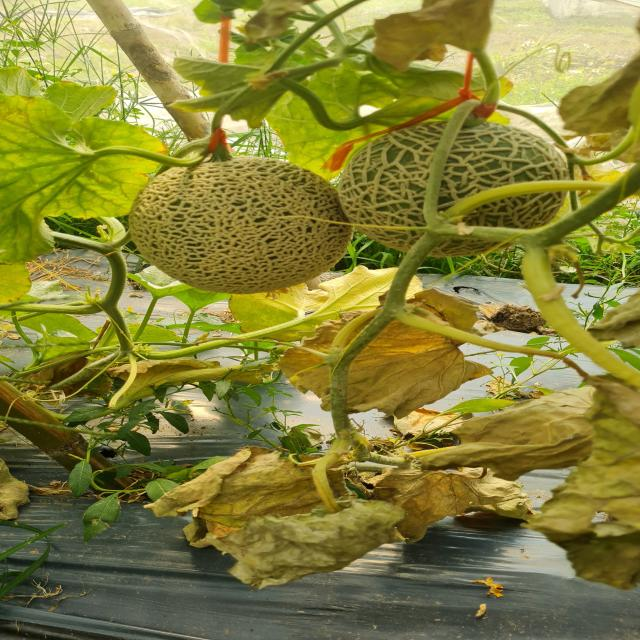melon: (129, 156, 351, 294), (438, 122, 569, 211), (338, 121, 447, 226), (462, 191, 567, 229), (358, 228, 422, 251), (431, 239, 493, 258)
